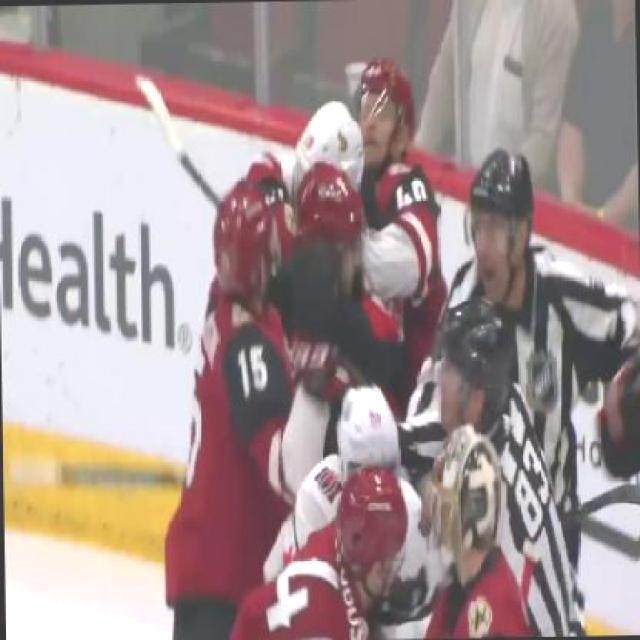fight: (179, 58, 452, 427)
